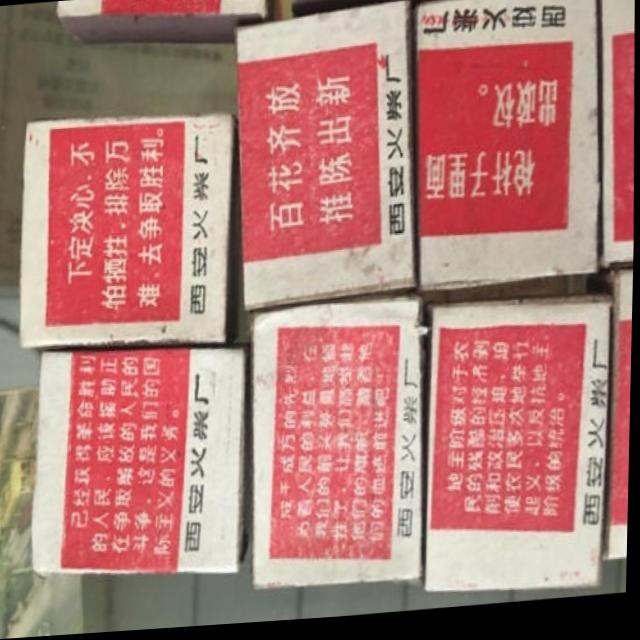box: (232, 6, 419, 317), (426, 297, 614, 596), (418, 0, 601, 295), (31, 344, 253, 577), (21, 115, 239, 352), (254, 300, 423, 593), (593, 277, 634, 570), (599, 0, 634, 282), (56, 0, 275, 44), (419, 285, 593, 313), (293, 0, 478, 17)
